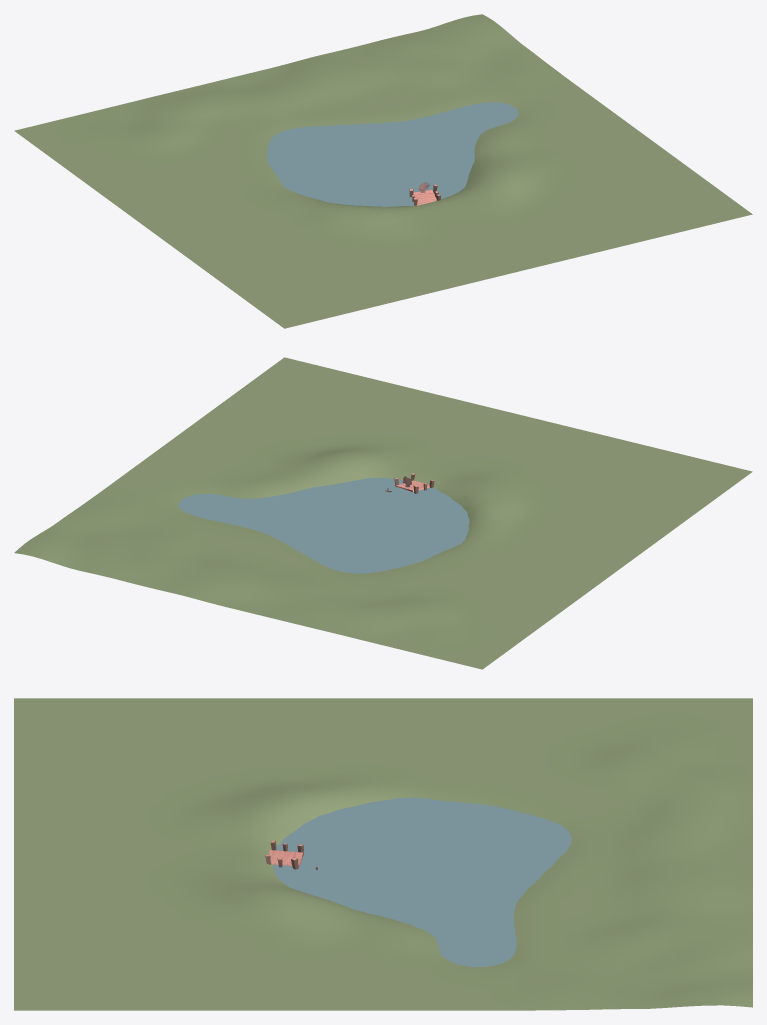
File: scene_Lake_.fbx
3 views of the same model, one above another, from view 1: azimuth 30°, elevation 25°; view 2: azimuth 150°, elevation 25°; view 3: azimuth 270°, elevation 25° (orthographic). The views are drawn at different scales.
Parts seen in each view (by area): view 1: sm_landscape, sm_water; view 2: sm_landscape, sm_water; view 3: sm_landscape, sm_water, sm_room2.
Boxes of the visible parts, bbox=[...] form: sm_landscape: bbox=[14, 14, 752, 328]; sm_water: bbox=[267, 102, 518, 206]; sm_landscape: bbox=[14, 357, 752, 669]; sm_water: bbox=[178, 478, 469, 573]; sm_landscape: bbox=[14, 698, 752, 1010]; sm_water: bbox=[273, 797, 571, 967]; sm_room2: bbox=[265, 840, 303, 869].
Size of what is drawn, in the model's own units: 97.88 by 9.81 by 97.88.
5 materials, 3 textured.
